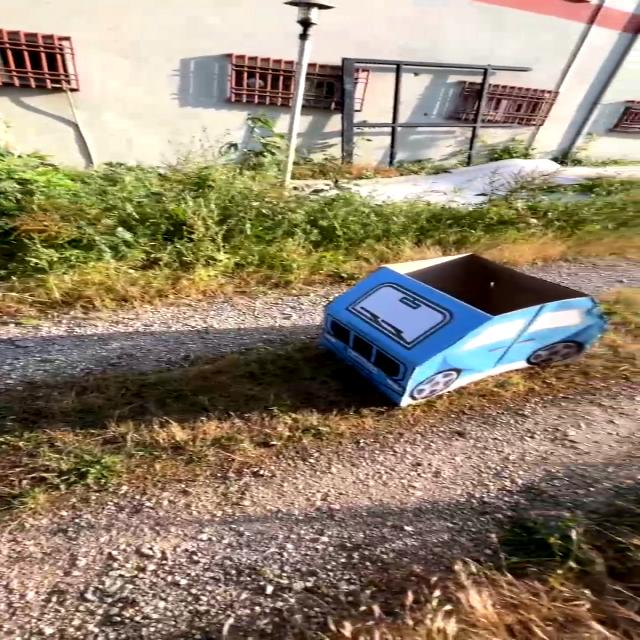blue_car: (265, 204, 640, 448)
